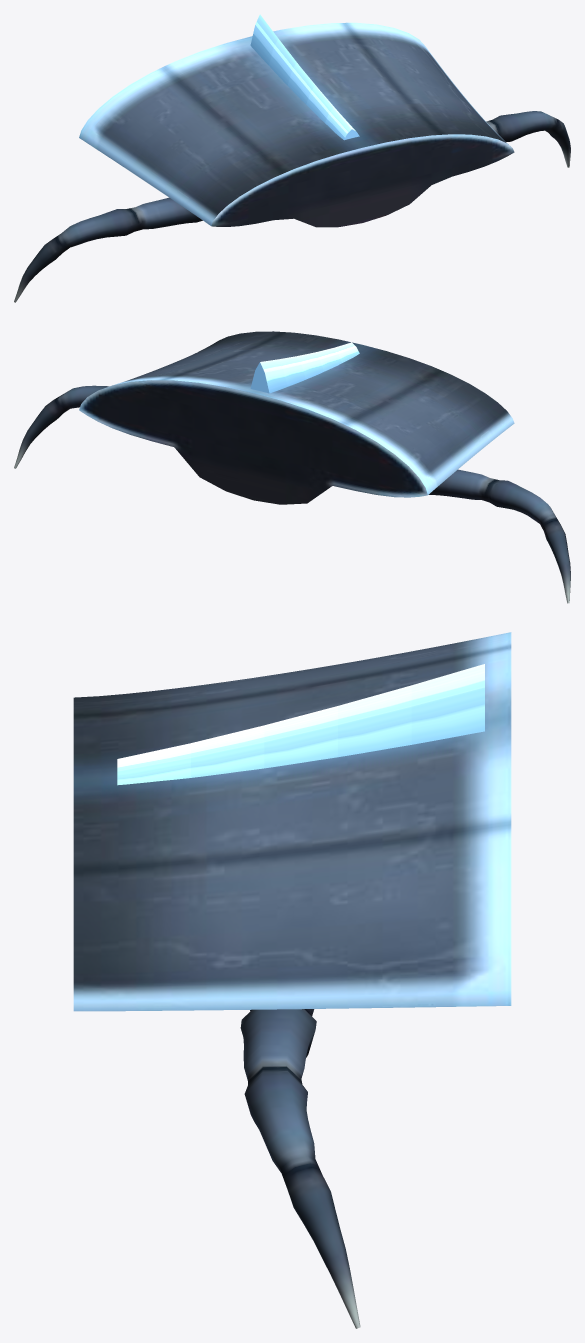
File: centopeia_segmento_v01.glb
3 renders of one model, top to bottom at view 1: azimuth 30°, elevation 25°; view 2: azimuth 150°, elevation 25°; view 3: azimuth 270°, elevation 25°, orthographic. The views are drawn at different scales.
Size of the model in its own units: 1.47 by 0.4976 by 0.5.
Materials: 1 (1 with a texture image).
